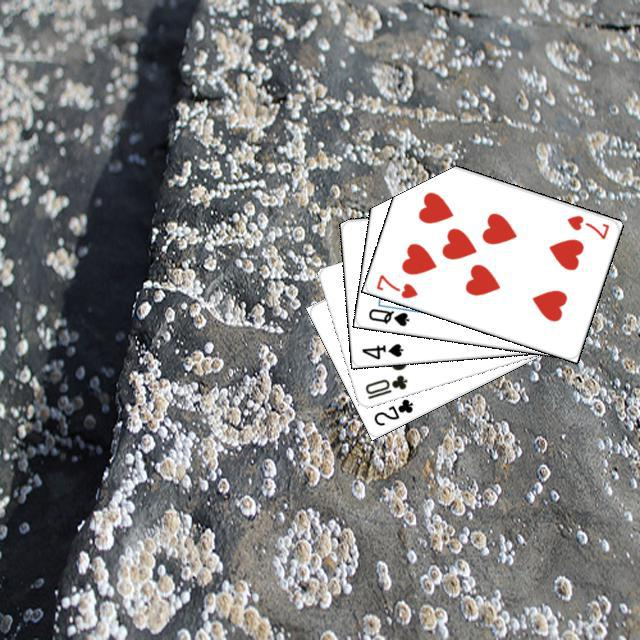10c: (360, 370, 409, 401)
2c: (369, 394, 415, 427)
4s: (357, 338, 405, 361)
7h: (562, 210, 611, 241), (371, 269, 419, 300)
Qs: (364, 304, 411, 328)
